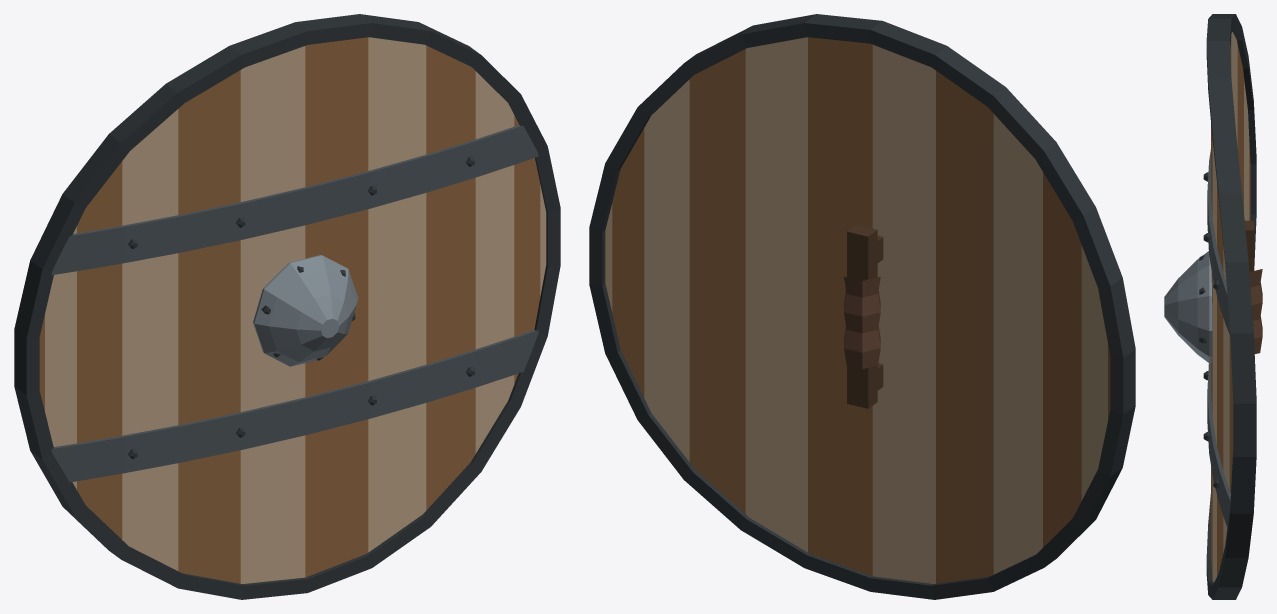
Rendered from mdvl_weapons_shield_round_01.glb.
3 views of the same model, side by side, from view 1: azimuth 30°, elevation 25°; view 2: azimuth 150°, elevation 25°; view 3: azimuth 270°, elevation 25° (orthographic). The views are drawn at different scales.
Visible parts, largest first — view 1: mdvl_weapons_shield_round_01; view 2: mdvl_weapons_shield_round_01; view 3: mdvl_weapons_shield_round_01.
Boxes of the visible parts, left/top/right/bottom form: mdvl_weapons_shield_round_01: left=14, top=14, right=560, bottom=599; mdvl_weapons_shield_round_01: left=589, top=14, right=1135, bottom=599; mdvl_weapons_shield_round_01: left=1164, top=14, right=1262, bottom=599.
Bounding box in the file's own units: 0.6495 × 0.6528 × 0.1094.
Materials: 1 (1 with a texture image).
